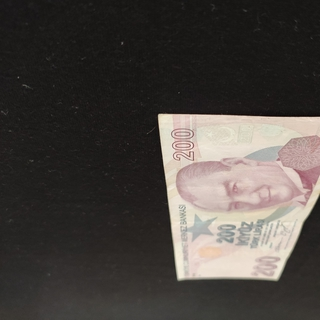200TLFront: (157, 113, 320, 281)
